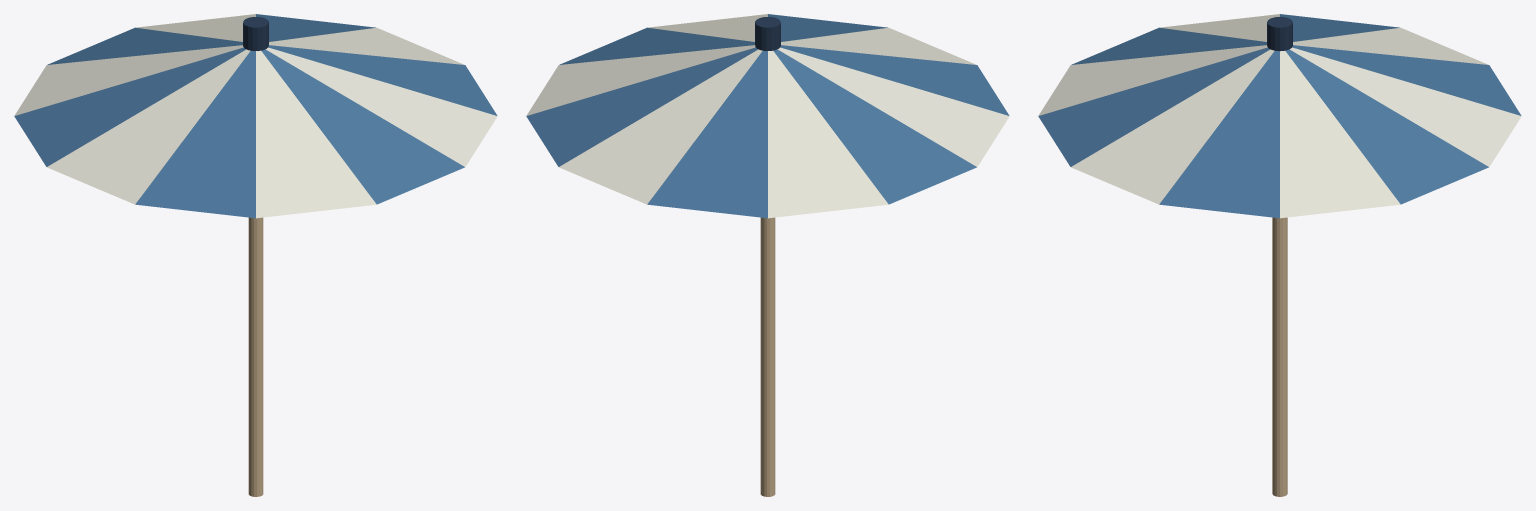
File: beach_umbrella.glb
3 renders of one model, left to right at view 1: azimuth 30°, elevation 25°; view 2: azimuth 150°, elevation 25°; view 3: azimuth 270°, elevation 25°, orthographic.
Parts seen in each view (by area): view 1: canopy_panel (×12), pole, cap; view 2: canopy_panel (×12), pole, cap; view 3: canopy_panel (×12), pole, cap.
Part boxes in pixels (left/top/right/bottom): canopy_panel (×12): left=14, top=14, right=497, bottom=218; pole: left=248, top=217, right=263, bottom=496; cap: left=243, top=17, right=268, bottom=50; canopy_panel (×12): left=526, top=14, right=1009, bottom=218; pole: left=760, top=217, right=775, bottom=496; cap: left=755, top=17, right=780, bottom=50; canopy_panel (×12): left=1038, top=14, right=1521, bottom=218; pole: left=1272, top=217, right=1287, bottom=496; cap: left=1267, top=17, right=1292, bottom=51.
Size of the model in its own units: 2.24 by 2.41 by 2.24.
